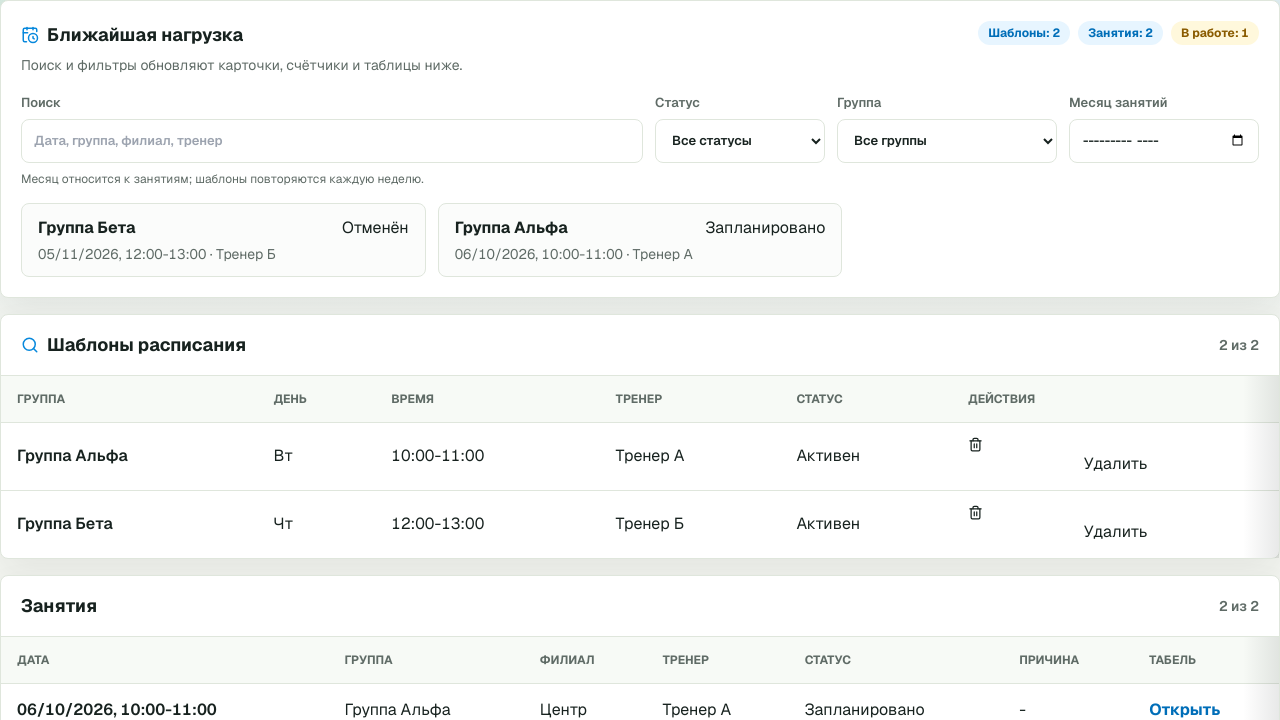
Test: schedule filters › filters lessons by month while keeping recurring templates visible
This screenshot has width=1280, height=720.
Type "2026-10" into the field labelled "Месяц занятий" at (1164, 140), box [1069,118,1259,162]
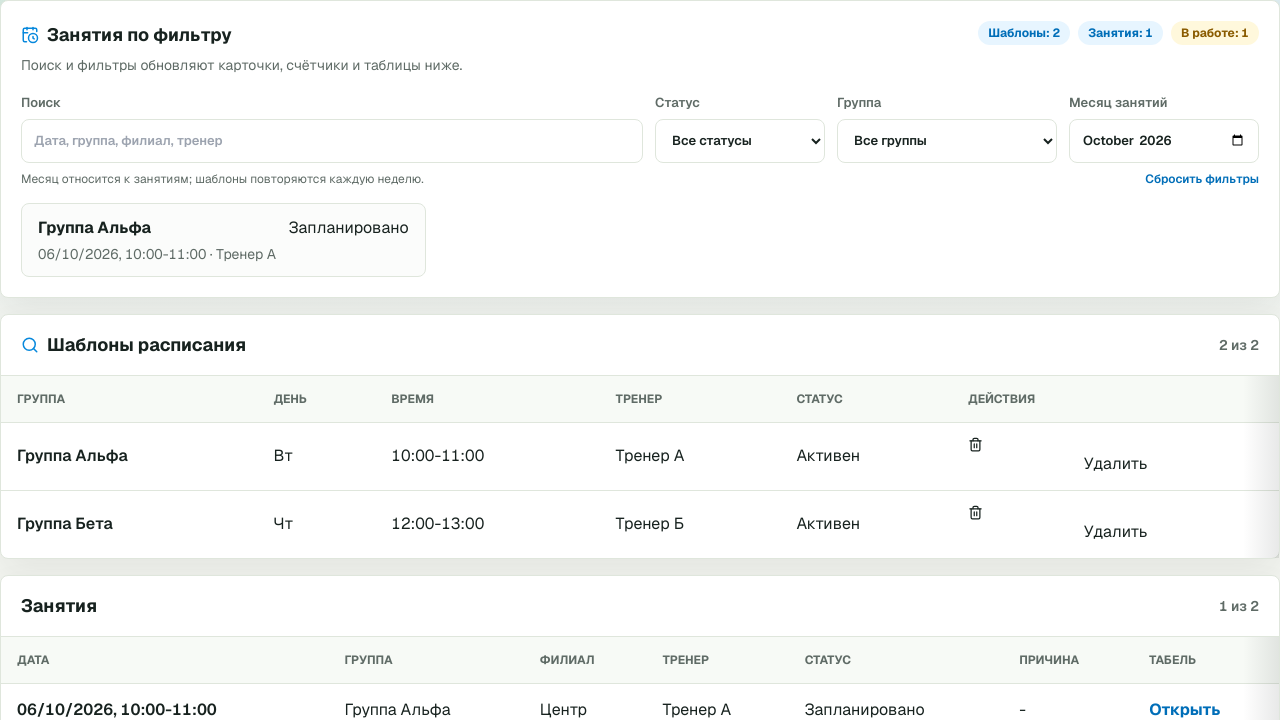
Result: the text "Занятия: 1" is shown at [1078,21,1163,45]
Result: the text "05/11/2026" is gone
Result: the text "1 из 2" is shown at [1219,596,1259,616]
Replace the text in the field labelled "Месяц занятий" with "2027-04" at (1164, 140), box [1069,118,1259,162]
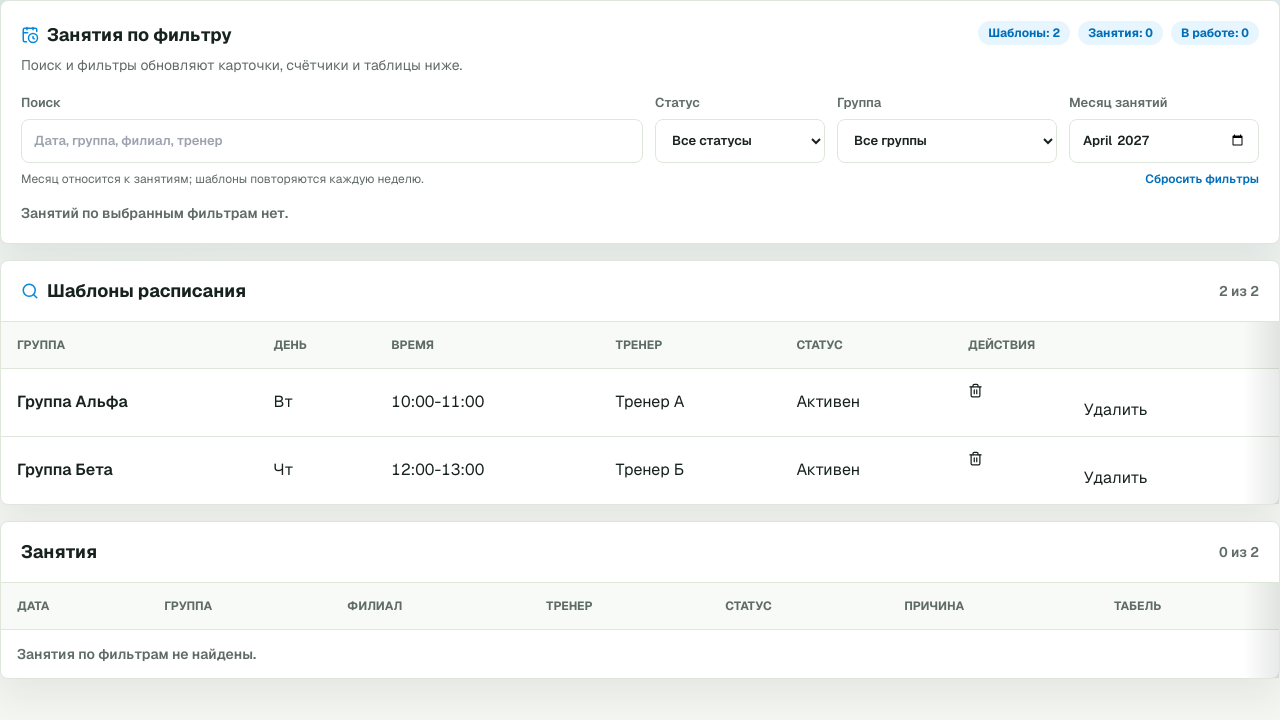
Expected: the text "Шаблоны: 2" is shown, [978,21,1070,45]
Result: the text "Занятия: 0" is shown at [1078,21,1163,45]
